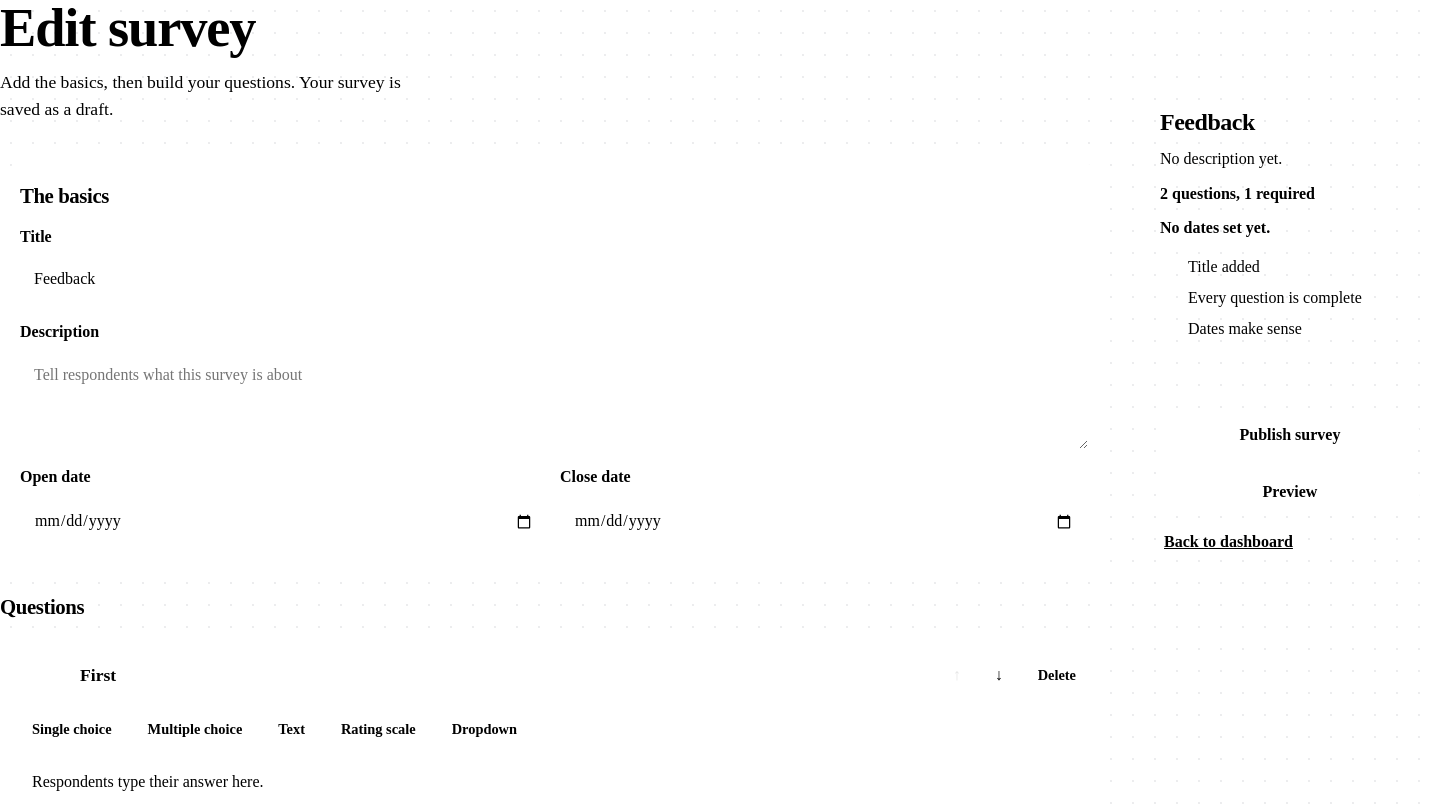
Test: CreateSurvey (builder) › asks for confirmation before deleting and keeps the question when cancelled
Step 1. Click the button "Delete" → (1057, 676), box [1024,659,1090,693]
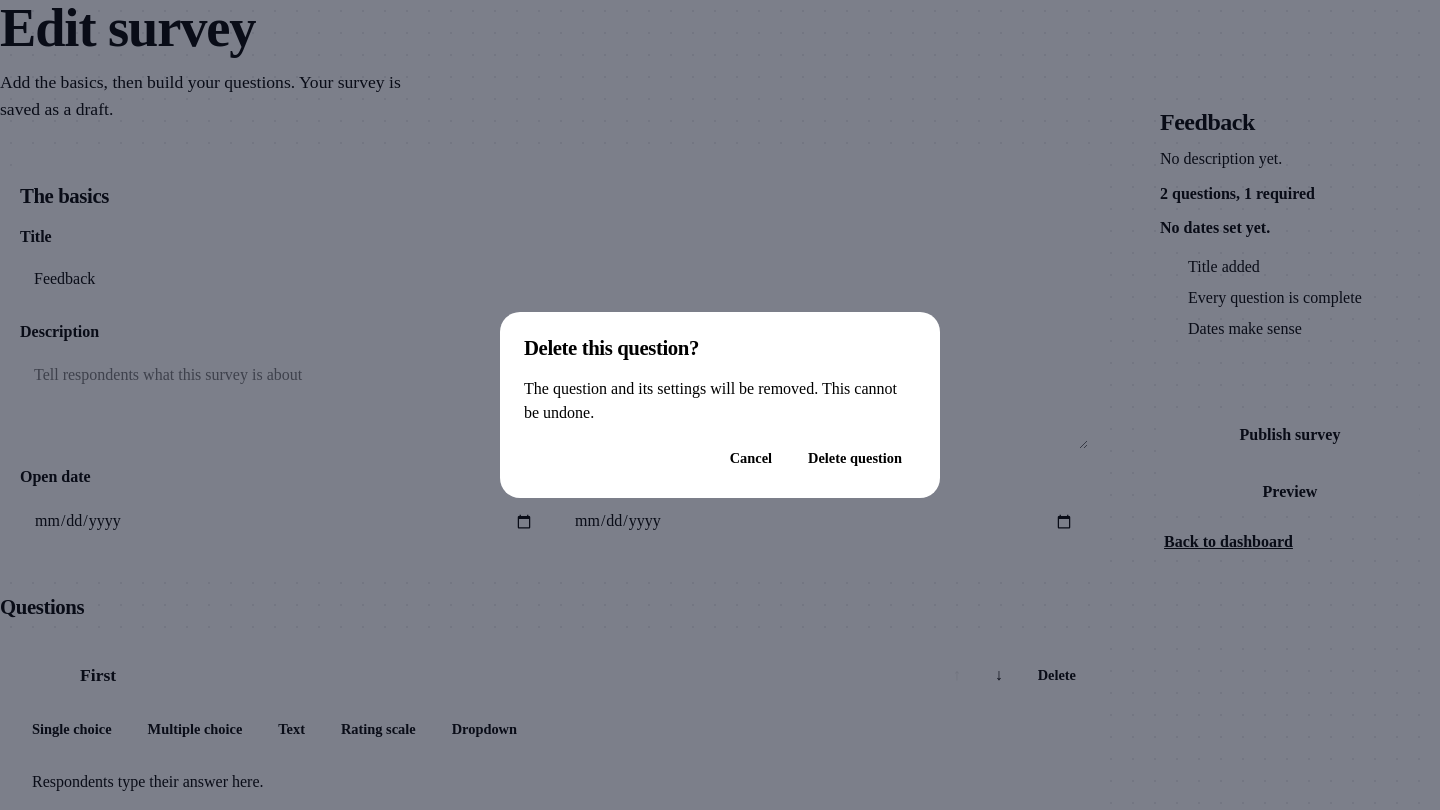
Expected: the dialog is shown, [500,312,940,498]
Step 2. Click the button "Cancel" → (751, 458), box [716,442,786,474]
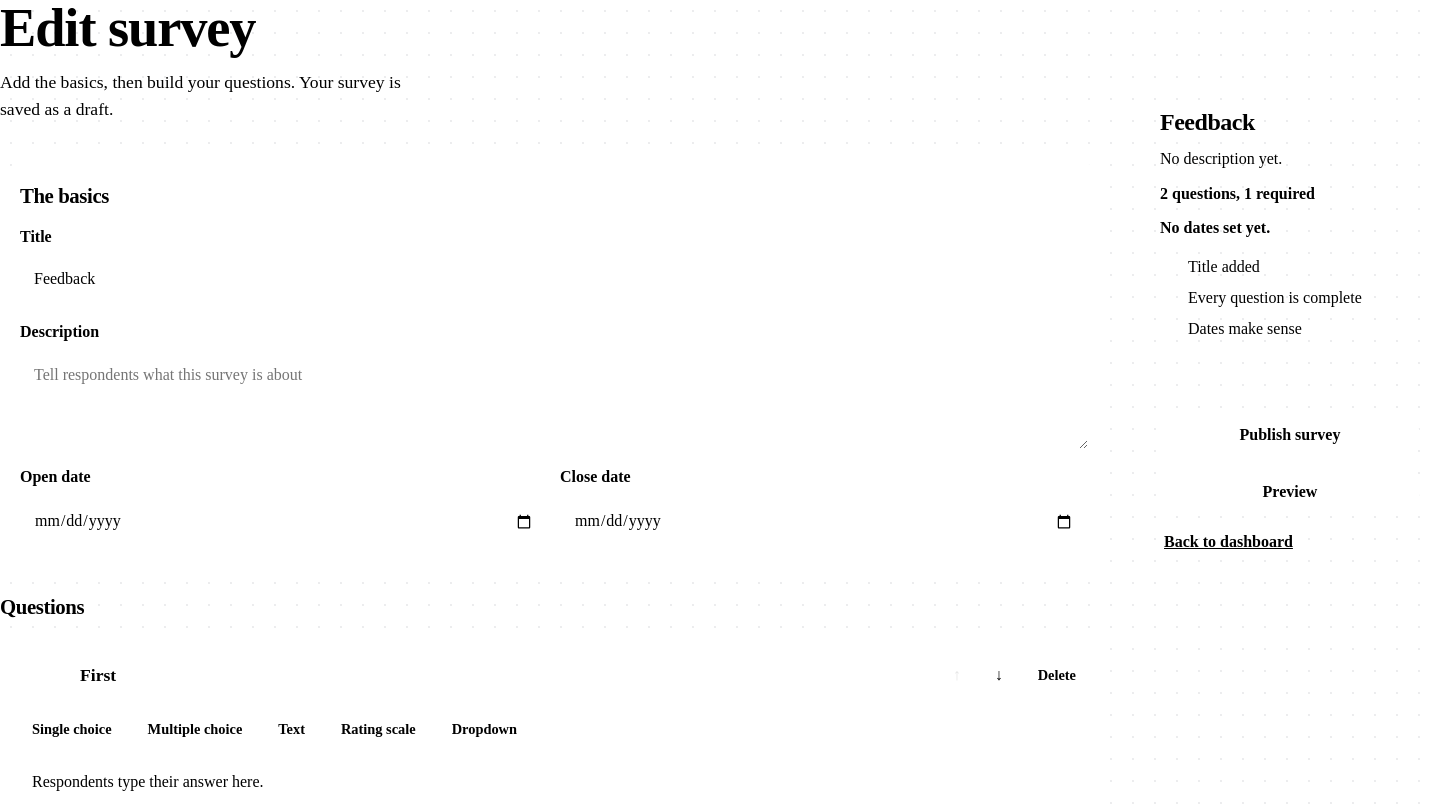
Expected: the dialog is gone
